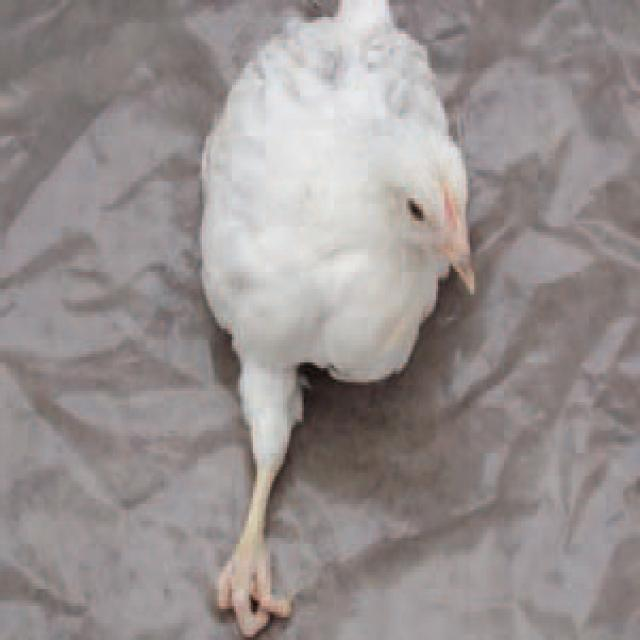AbNormal: (193, 6, 476, 636)
